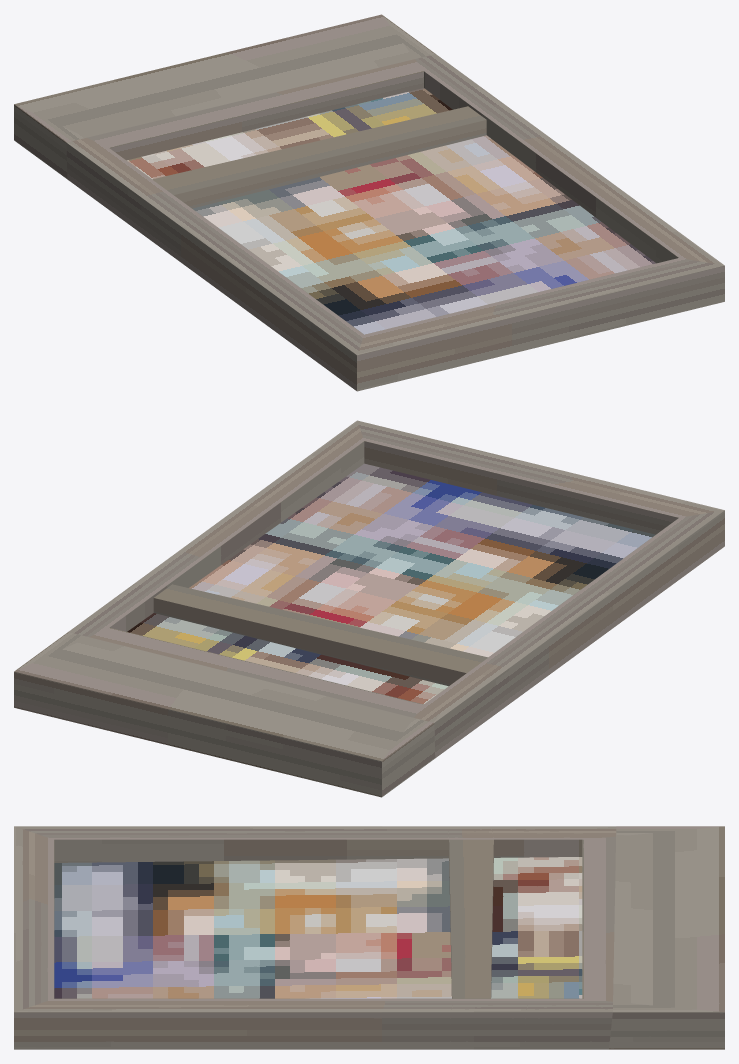
File: 132_DP_retailWindow3.gltf
3 views of the same model, one above another, from view 1: azimuth 30°, elevation 25°; view 2: azimuth 150°, elevation 25°; view 3: azimuth 270°, elevation 25° (orthographic). The views are drawn at different scales.
Visible parts, largest first — view 1: DP_retailWindow3; view 2: DP_retailWindow3; view 3: DP_retailWindow3.
Boxes of the visible parts, x1,y1,x2,y2 form: DP_retailWindow3: [14, 14, 724, 391]; DP_retailWindow3: [14, 420, 724, 797]; DP_retailWindow3: [14, 826, 724, 1049].
Bounding box in the file's own units: 4.74 × 0.4453 × 7.66.
Materials: 1 (1 with a texture image).
